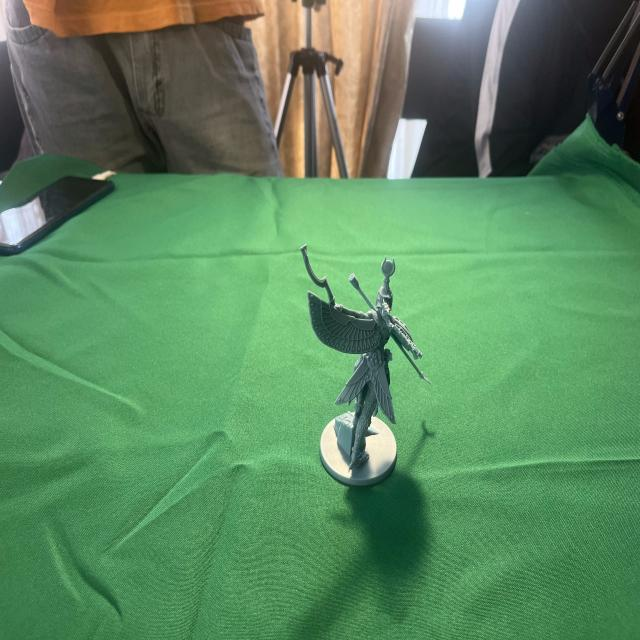isis: (293, 229, 439, 495)
